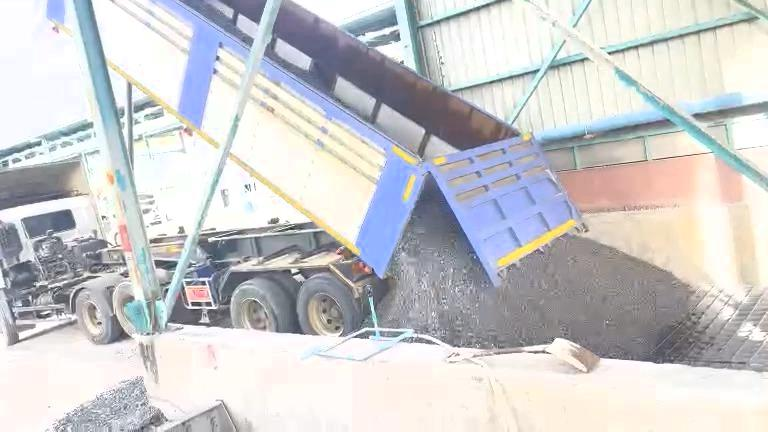gravel: (378, 193, 694, 359), (47, 377, 161, 430)
